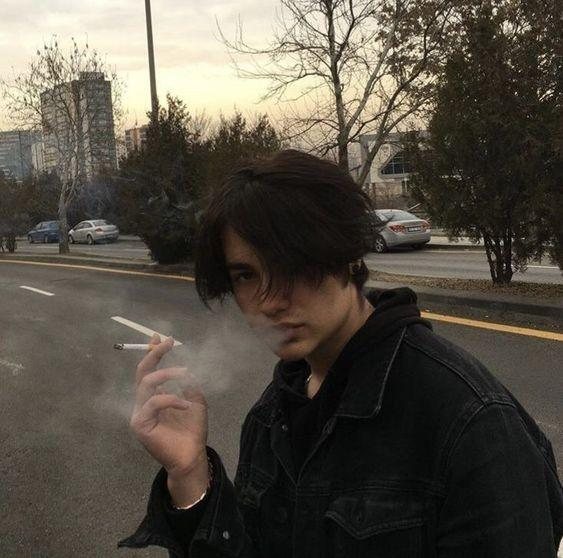cigarette: (113, 344, 159, 351)
